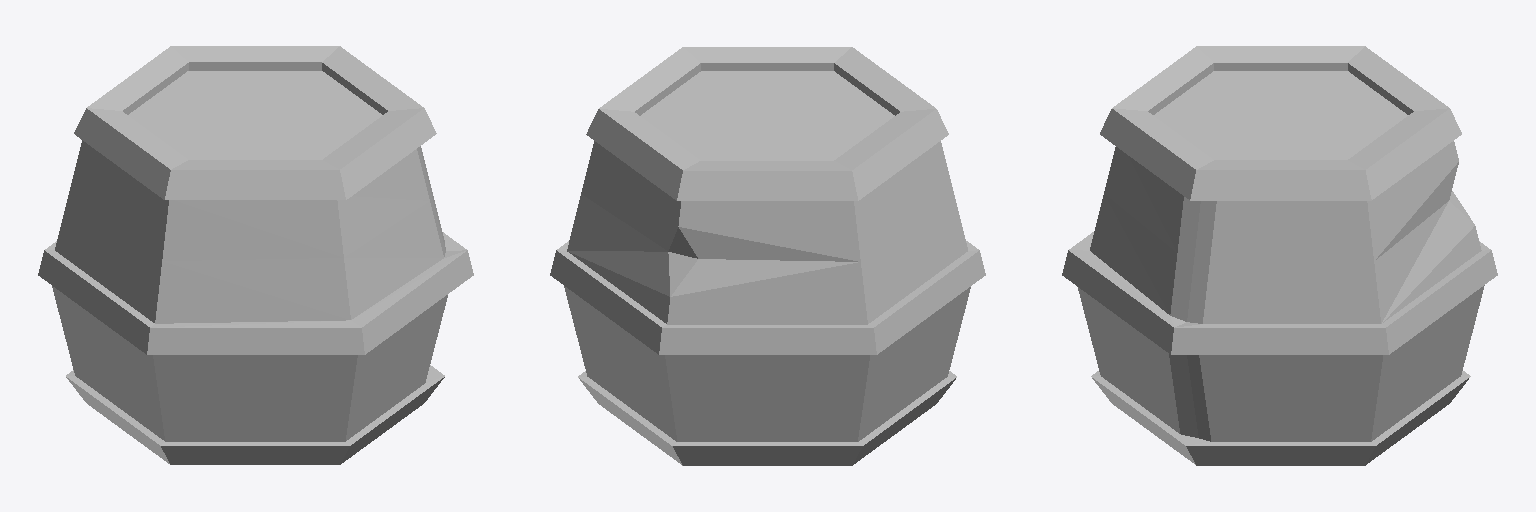
Rendered from misc013.obj.
3 views of the same model, side by side, from view 1: azimuth 30°, elevation 25°; view 2: azimuth 150°, elevation 25°; view 3: azimuth 270°, elevation 25° (orthographic).
Visible parts, largest first — view 1: misc013; view 2: misc013; view 3: misc013.
Part boxes in pixels (x1,y1,x2,y2): misc013: (38,46,473,464); misc013: (550,47,985,465); misc013: (1062,46,1497,465).
Bounding box in the file's own units: 0.0152 × 0.0131 × 0.0175.